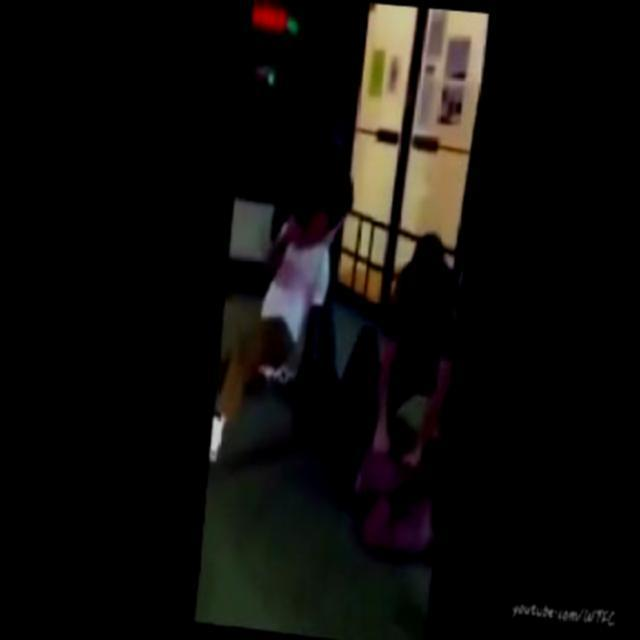fight: (352, 229, 459, 554), (272, 107, 357, 287)
